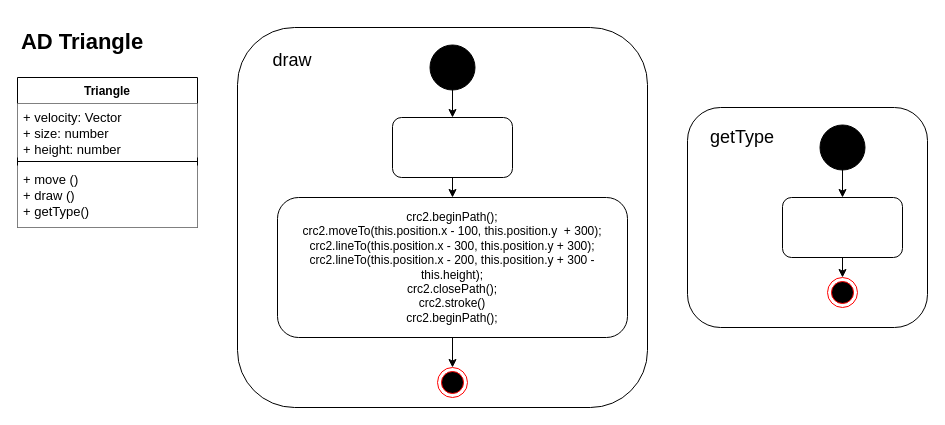
The diagram is 945 pixels wide and 425 high, and some of its shapes have lost their labels. Each missing label, with the centre of its shape:
crc2.beginPath(): (x=452, y=147)
return "Triangle": (x=842, y=227)
